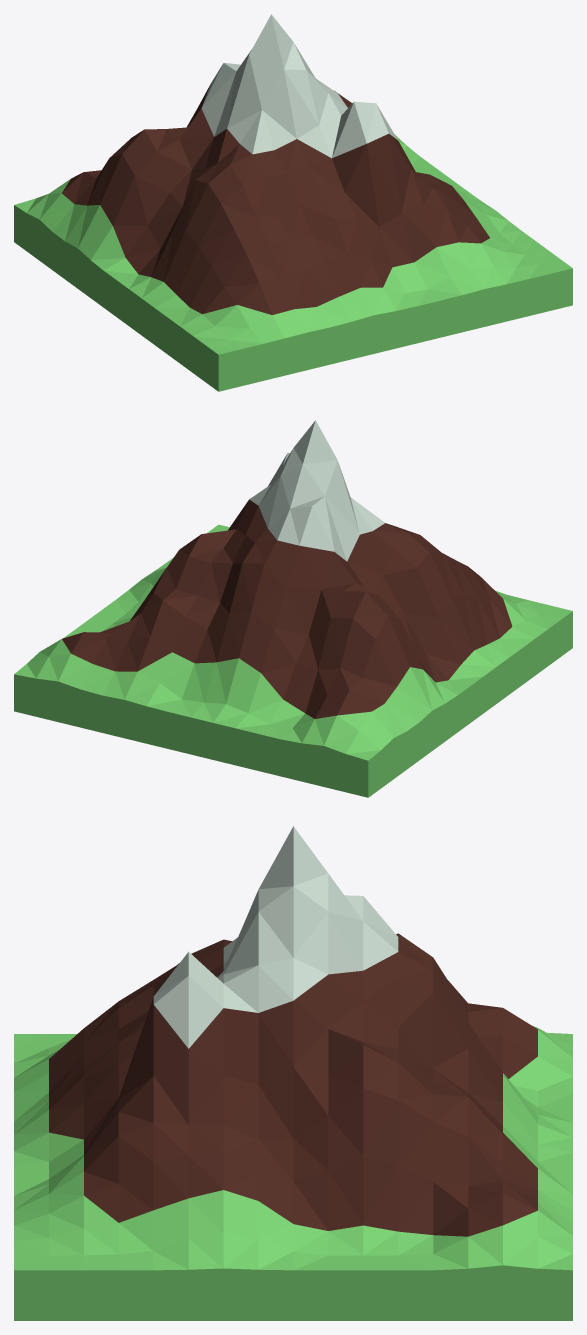
The model's file is mountains_0.fbx.
3 views of the same model, one above another, from view 1: azimuth 30°, elevation 25°; view 2: azimuth 150°, elevation 25°; view 3: azimuth 270°, elevation 25° (orthographic). The views are drawn at different scales.
Visible parts, largest first — view 1: Plane; view 2: Plane; view 3: Plane.
Boxes of the visible parts, <box> form: Plane: <box>14,14,572,391</box>; Plane: <box>14,420,572,797</box>; Plane: <box>14,826,572,1320</box>.
Bounding box in the file's own units: 2000 × 1429 × 2000.
